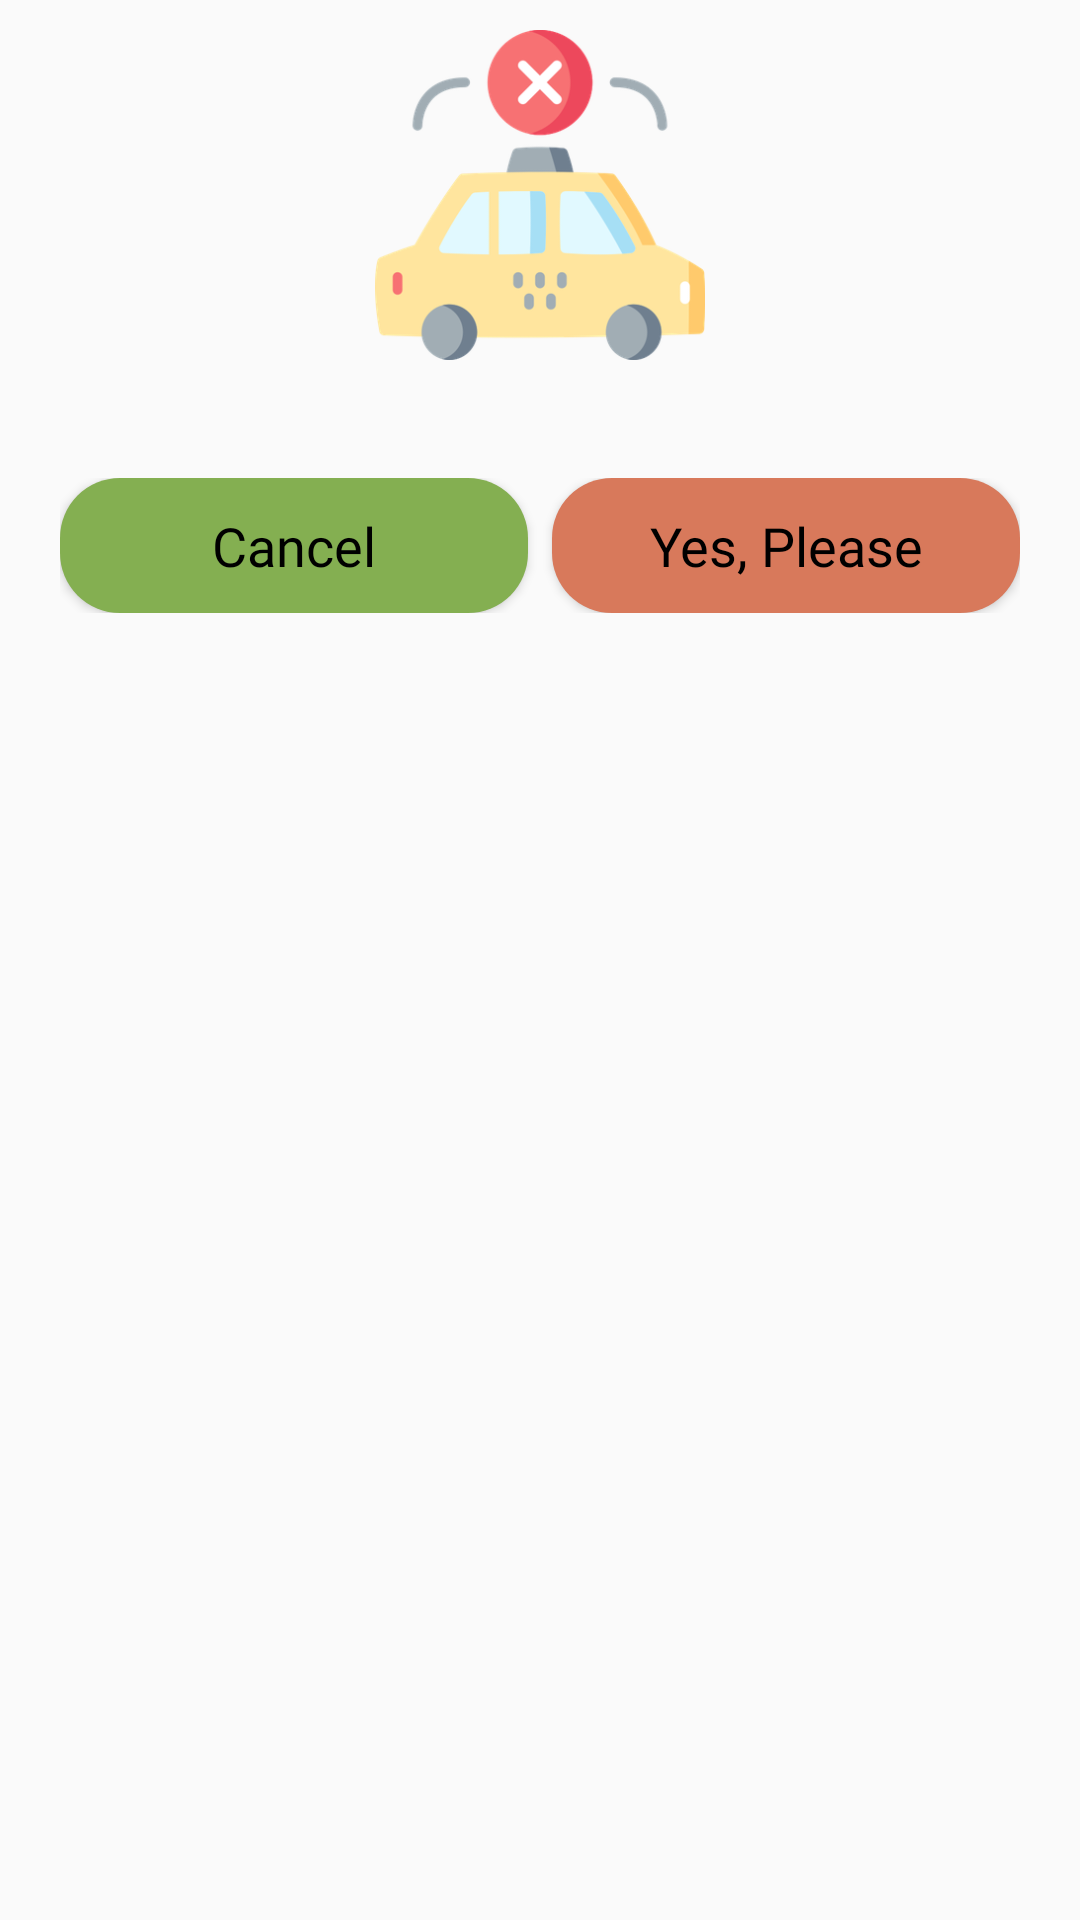

Named icons in this screenshot (1080x1920) and their centers, (x=x, y=y):
taxi: (x=540, y=195)
